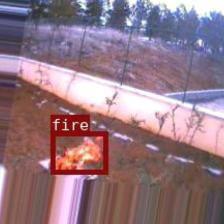fire: (50, 130, 107, 173)
